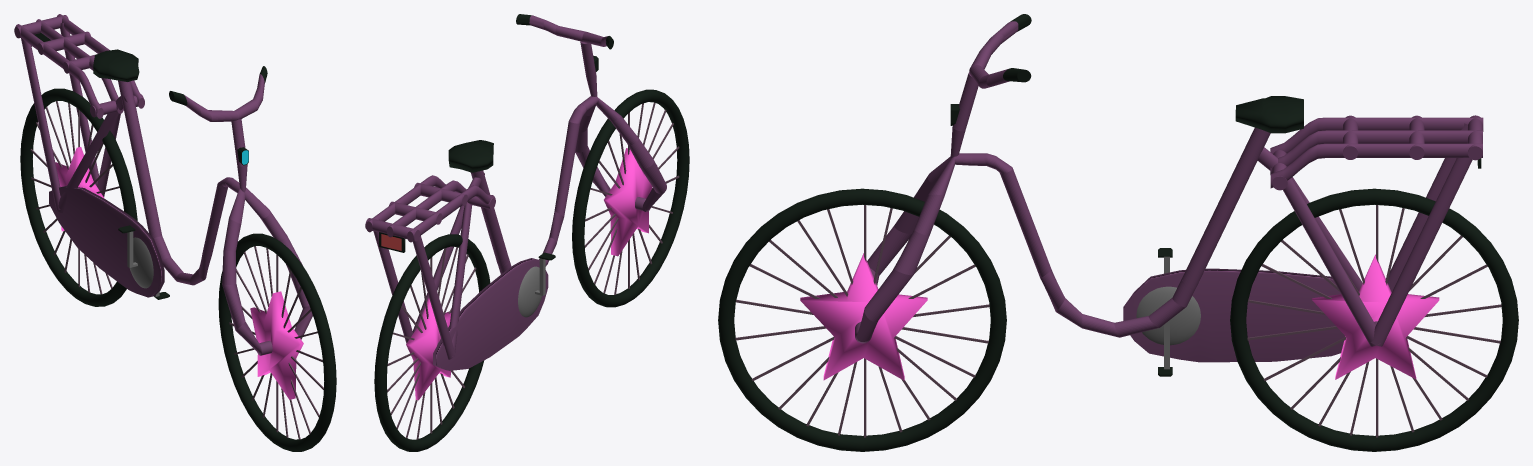
File: fiets_vrouw.fbx
The picture shows the model from 3 angles, left to right: view 1: azimuth 30°, elevation 25°; view 2: azimuth 150°, elevation 25°; view 3: azimuth 270°, elevation 25°; orthographic projection. The views are drawn at different scales.
Parts seen in each view (by area): view 1: Torus.001, Cube.025, Torus, Cube.024, Cylinder.012, Cylinder.006, Cylinder.011, Cylinder, Cylinder.002, Cylinder.014, Cube.026, Cylinder.001 (+7 smaller); view 2: Torus.001, Cube.025, Torus, Cube.024, Cylinder.012, Cylinder.006, Cylinder.011, Cube.026, Cylinder.002, Cylinder.001, Cylinder.014, Cylinder (+9 smaller); view 3: Torus.001, Torus, Cube.025, Cube.024, Cylinder.006, Cylinder.012, Cylinder.011, Cylinder.005, Cylinder, Cylinder.004, Cube.026, Sphere (+3 smaller).
Part boxes in pixels (x1,y1,x2,y2): Torus.001: [218, 233, 336, 451]; Cube.025: [49, 186, 164, 297]; Torus: [20, 88, 137, 306]; Cube.024: [55, 147, 303, 399]; Cylinder.012: [222, 177, 312, 354]; Cylinder.006: [15, 14, 144, 118]; Cylinder.011: [146, 177, 230, 285]; Cylinder: [118, 80, 158, 220]; Cylinder.002: [21, 38, 60, 209]; Cylinder.014: [169, 66, 267, 121]; Cube.026: [93, 49, 139, 81]; Cylinder.001: [56, 111, 118, 212]; Torus.001: [572, 89, 689, 307]; Cube.025: [433, 258, 548, 370]; Torus: [374, 234, 490, 451]; Cube.024: [406, 148, 657, 400]; Cylinder.012: [575, 96, 666, 211]; Cylinder.006: [366, 175, 495, 242]; Cylinder.011: [498, 104, 586, 274]; Cube.026: [448, 140, 493, 172]; Cylinder.002: [412, 235, 455, 359]; Cylinder.001: [449, 202, 472, 356]; Cylinder.014: [516, 14, 613, 49]; Cylinder: [470, 170, 508, 265]; Torus.001: [718, 188, 1006, 451]; Torus: [1230, 188, 1518, 451]; Cube.025: [1123, 268, 1345, 362]; Cube.024: [800, 253, 1439, 380]; Cylinder.006: [1270, 117, 1483, 188]; Cylinder.012: [857, 153, 987, 341]; Cylinder.011: [986, 153, 1195, 337]; Cylinder.005: [1370, 157, 1472, 346]; Cylinder: [1181, 127, 1270, 288]; Cylinder.004: [1257, 147, 1380, 346]; Cube.026: [1235, 96, 1303, 133]; Sphere: [1136, 286, 1200, 345].
Size of the model in its own units: 241 by 792 by 1392.
